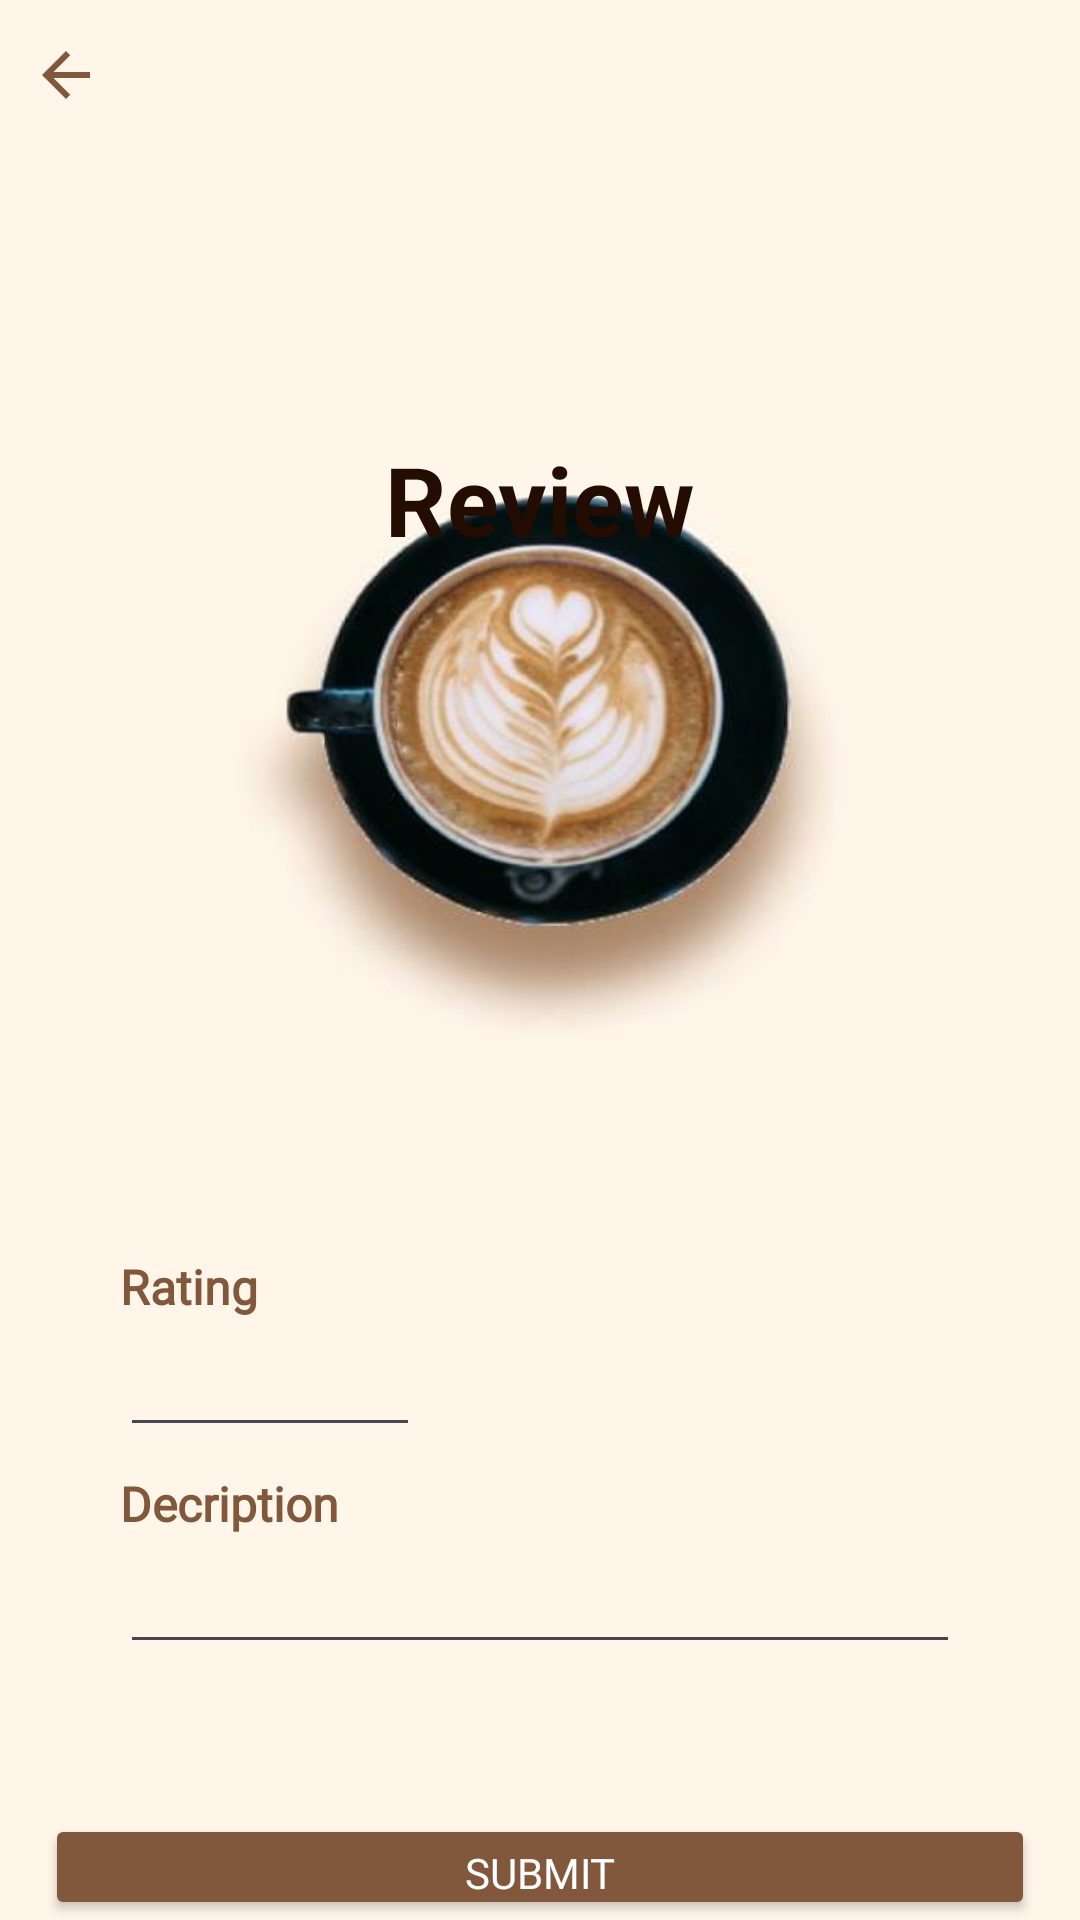

Icon bounding boxes for this 1080px×1920px phone screenshot, format (x1, y1, x2, y2):
back: (42, 51, 90, 99)
